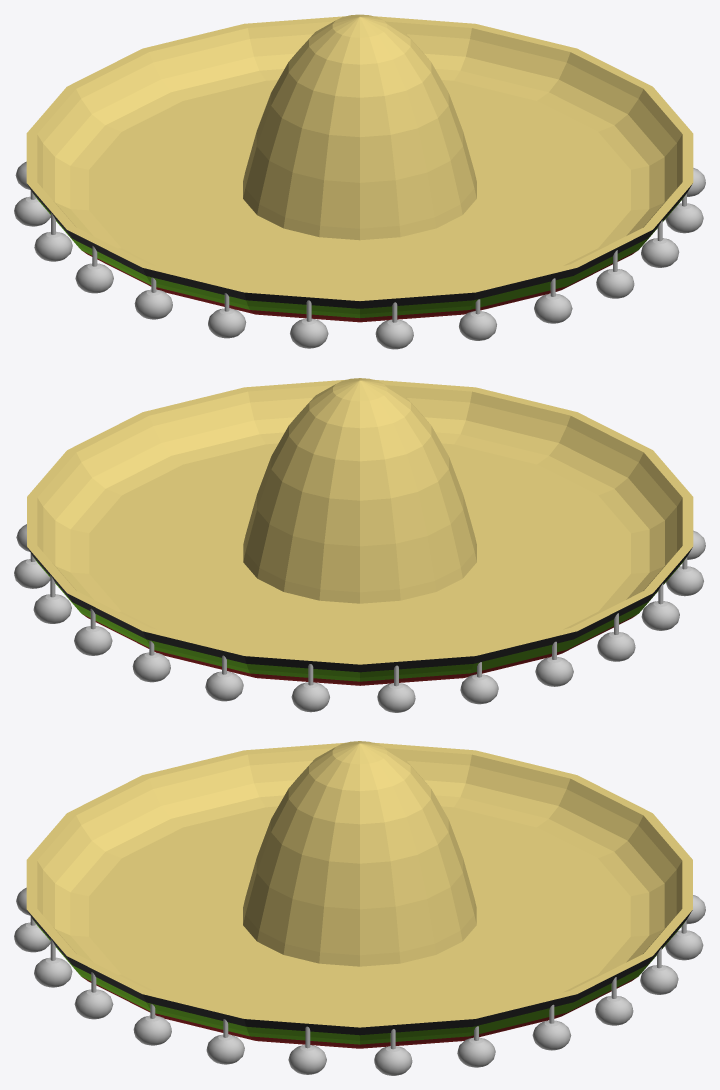
The model's file is Sombrero.glb.
3 views of the same model, one above another, from view 1: azimuth 30°, elevation 25°; view 2: azimuth 150°, elevation 25°; view 3: azimuth 270°, elevation 25° (orthographic).
Parts seen in each view (by area): view 1: Sphere027; view 2: Sphere027; view 3: Sphere027.
Part boxes in pixels (left/top/right/bottom): Sphere027: left=14, top=14, right=705, bottom=349; Sphere027: left=14, top=378, right=705, bottom=712; Sphere027: left=14, top=741, right=705, bottom=1075.
Bounding box in the file's own units: 1.06 × 0.3252 × 1.06.
